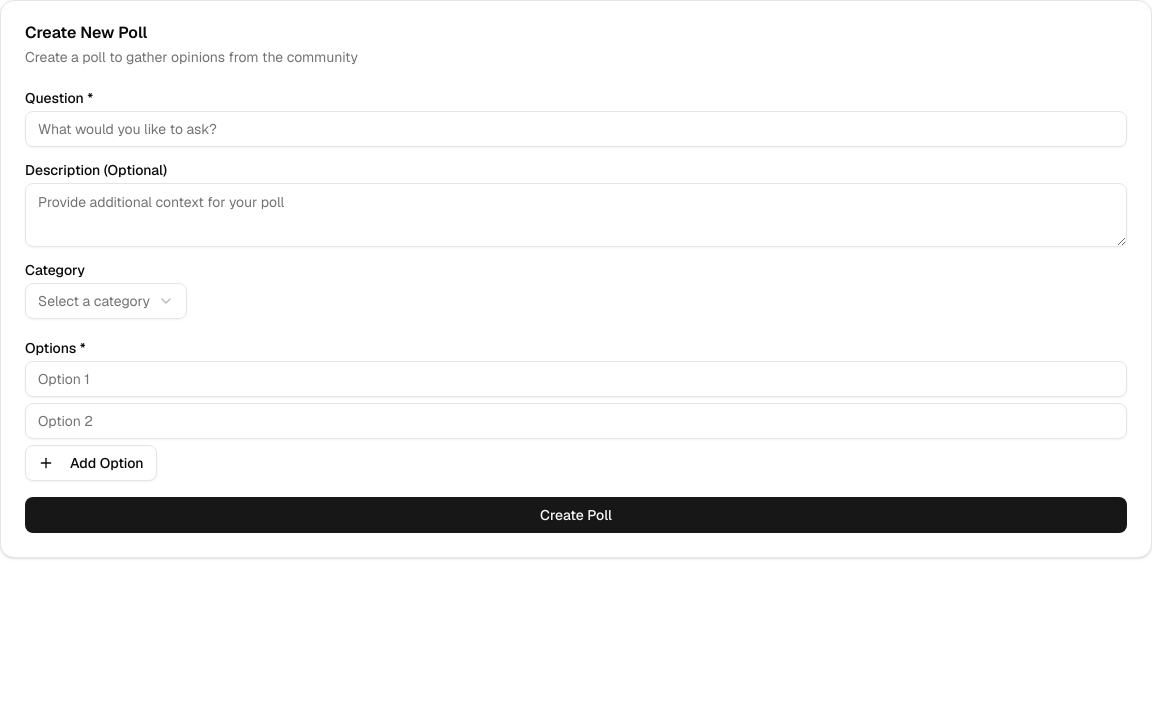
it: CreatePollForm › Happy Path › should successfully create a poll with valid data
This screenshot has width=1152, height=720.
# Fill out the form
In the field labelled "Question *": (576, 129) [25,111,1127,147], type "What is your favorite programming language?"
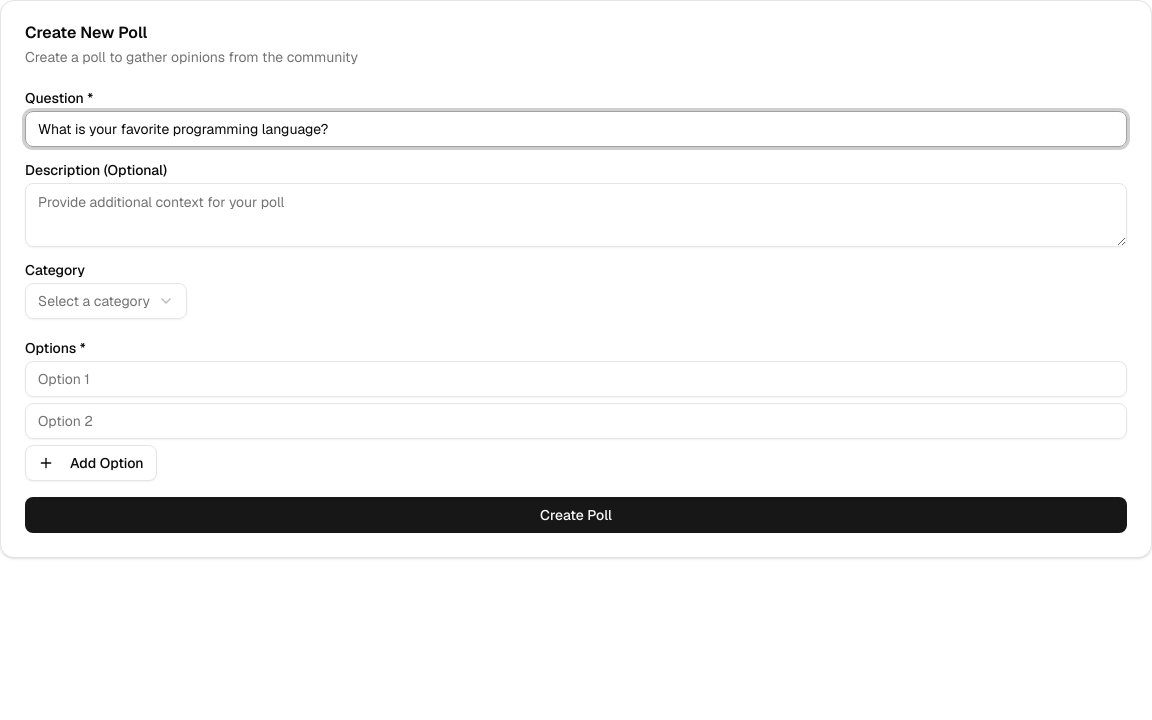
In the text box labelled "Description (Optional)": (576, 215) [25,183,1127,247], type "Choose your preferred language"
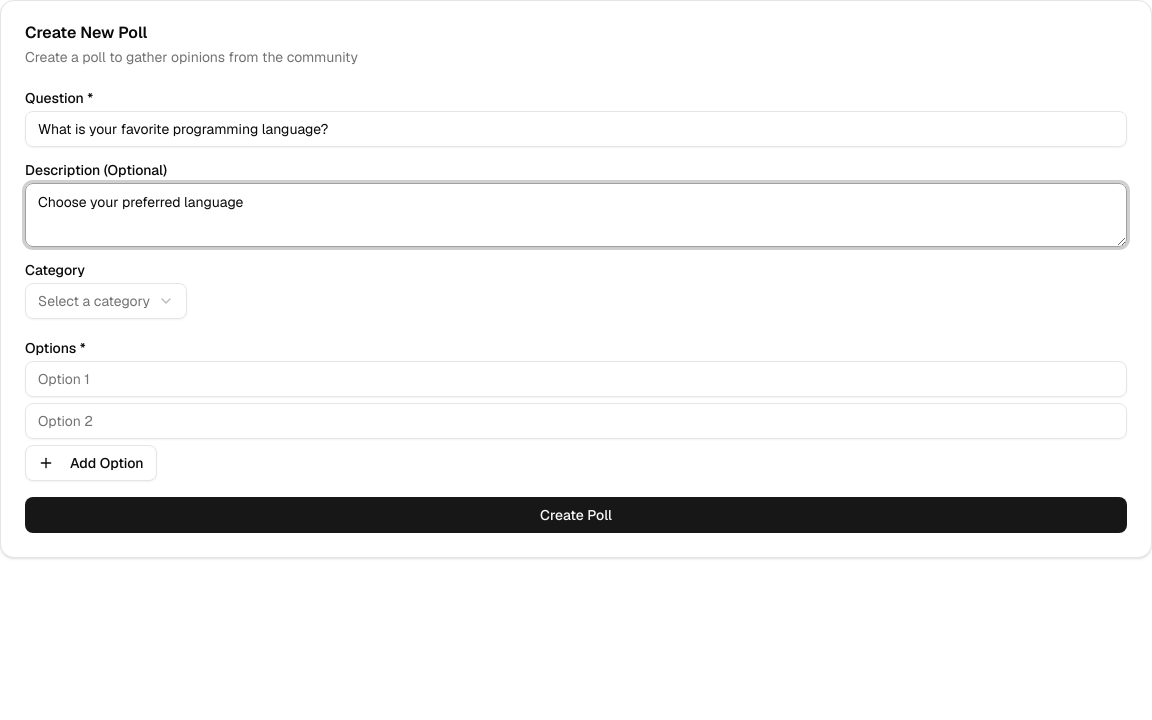
In the field with placeholder "Option 1": (576, 379) [25,361,1127,397], type "JavaScript"
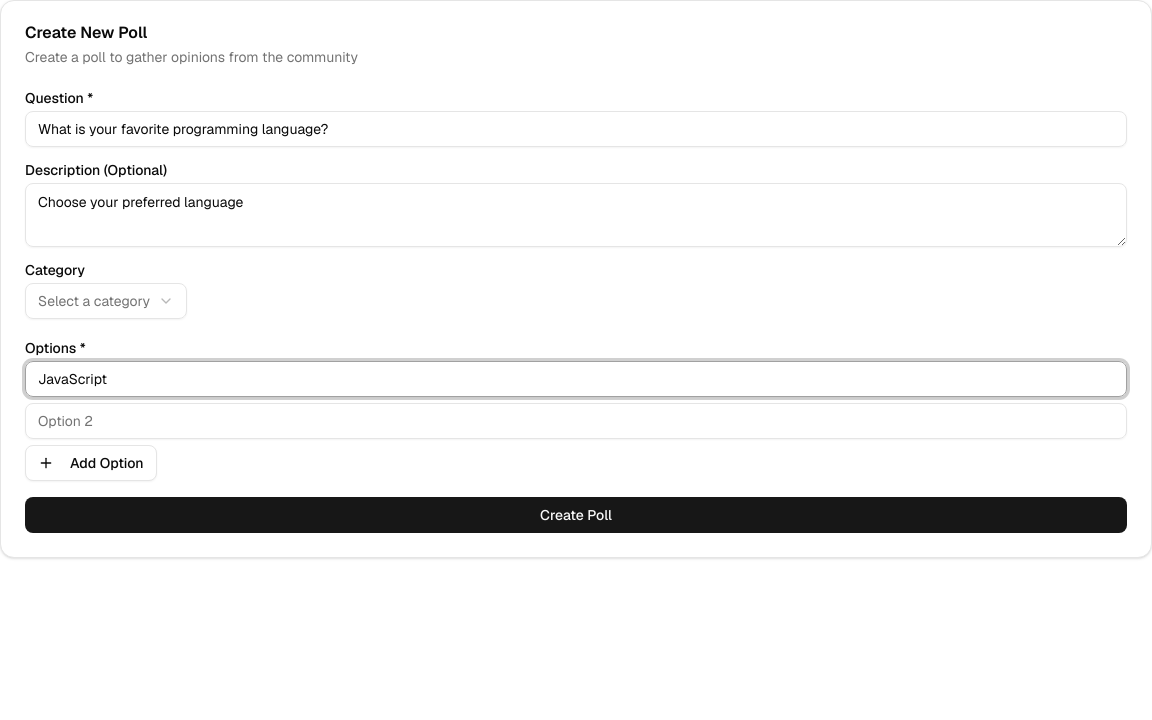
In the field with placeholder "Option 2": (576, 421) [25,403,1127,439], type "Python"
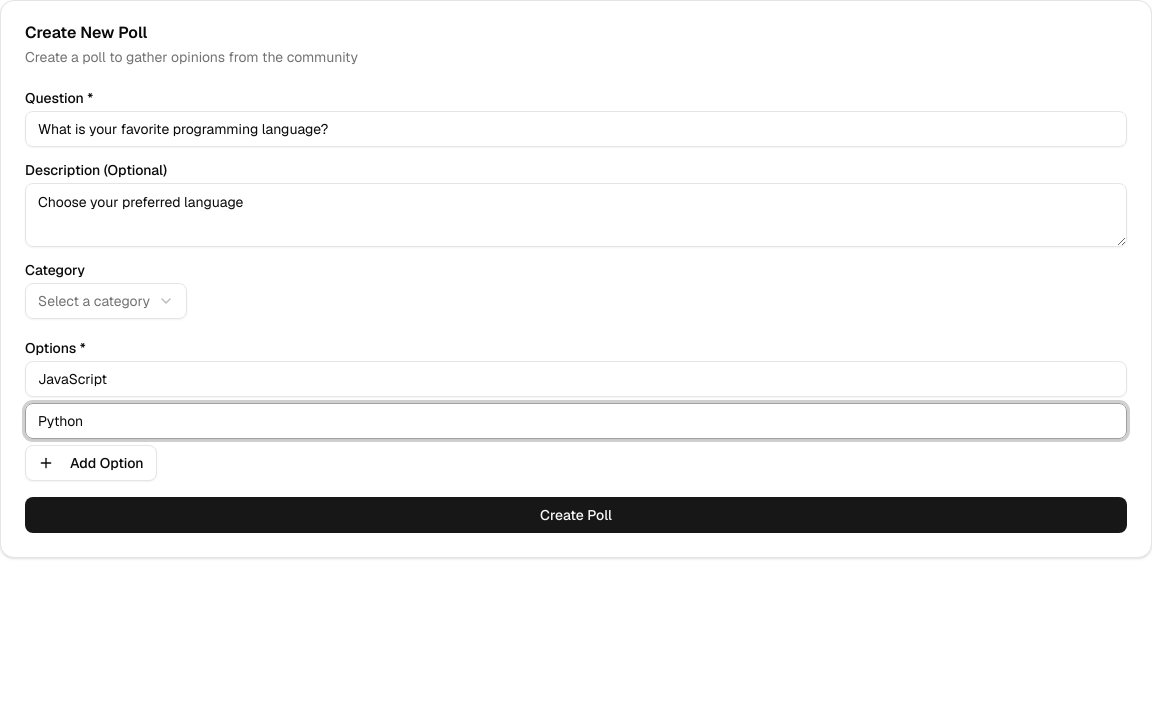
# Submit the form
Click the button "Create Poll": (576, 515) [25,497,1127,533]
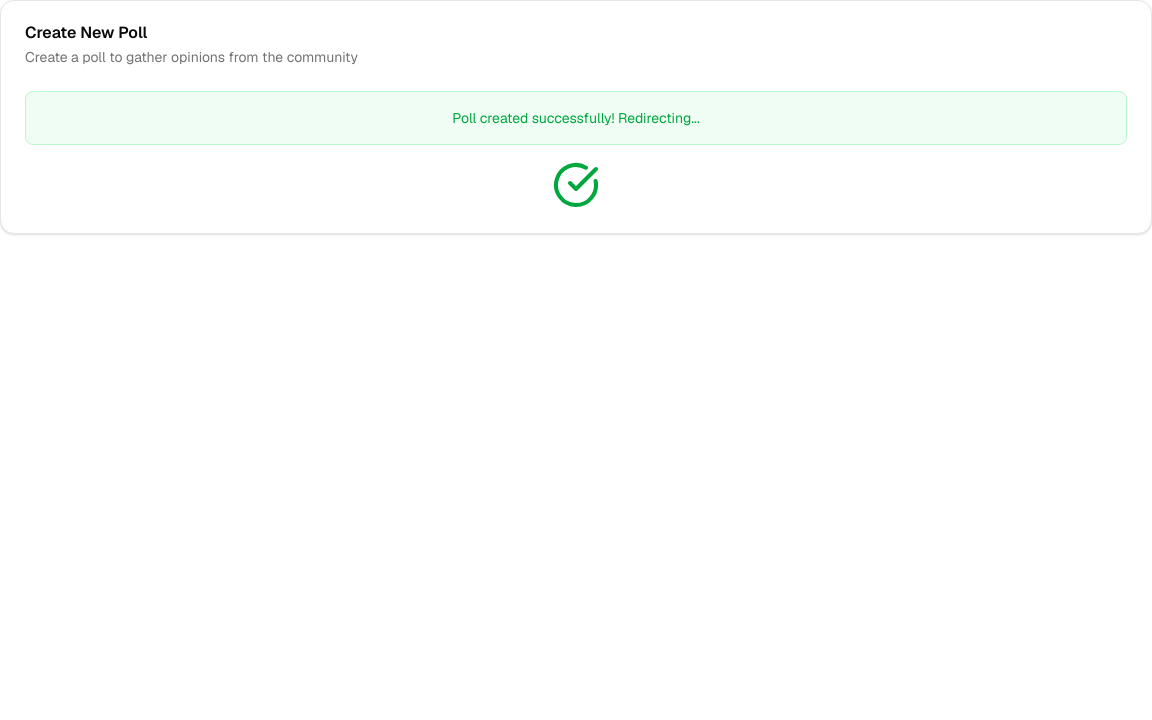
Expected: the text "Poll created successfully! Redirecting..." is shown, [25,91,1127,145]
